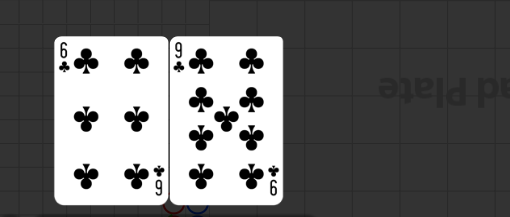6C: (151, 163, 165, 197)
9C: (266, 162, 280, 197)
